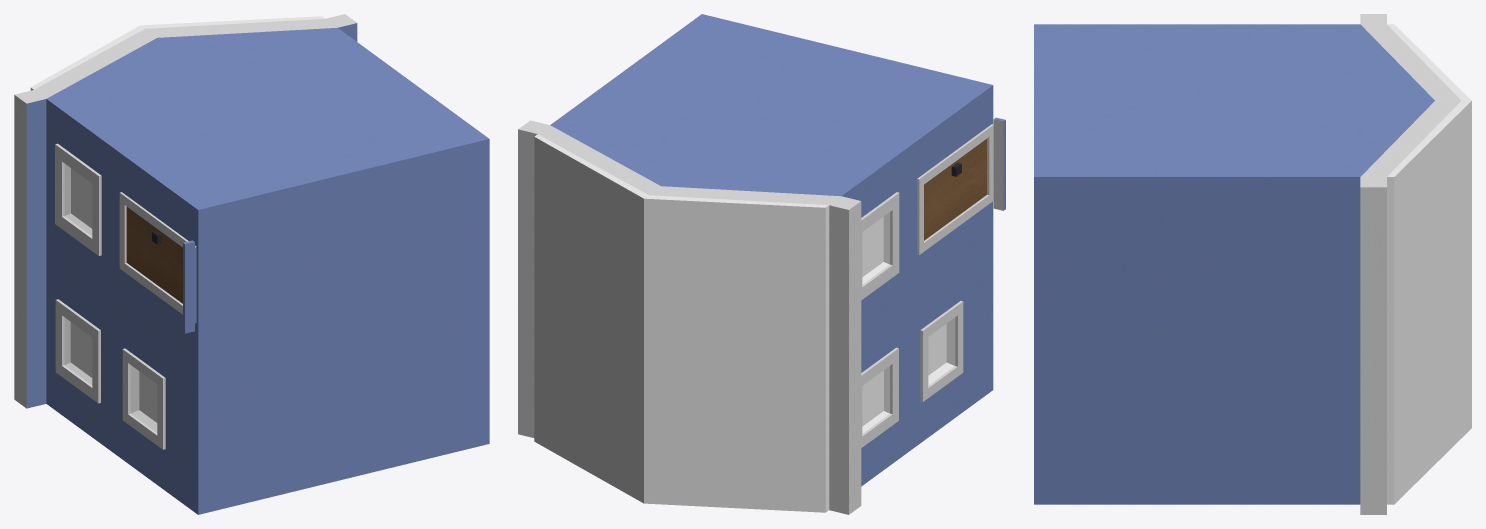
The model's file is venice_murano_12.fbx.
The picture shows the model from 3 angles, left to right: view 1: azimuth 30°, elevation 25°; view 2: azimuth 150°, elevation 25°; view 3: azimuth 270°, elevation 25°; orthographic projection. The views are drawn at different scales.
Visible parts, largest first — view 1: Cube.334; view 2: Cube.334; view 3: Cube.334.
Boxes of the visible parts, bbox=[...] form: Cube.334: bbox=[14, 14, 489, 514]; Cube.334: bbox=[518, 14, 1005, 514]; Cube.334: bbox=[1034, 14, 1471, 514].
Bounding box in the file's own units: 897 × 790 × 956.
